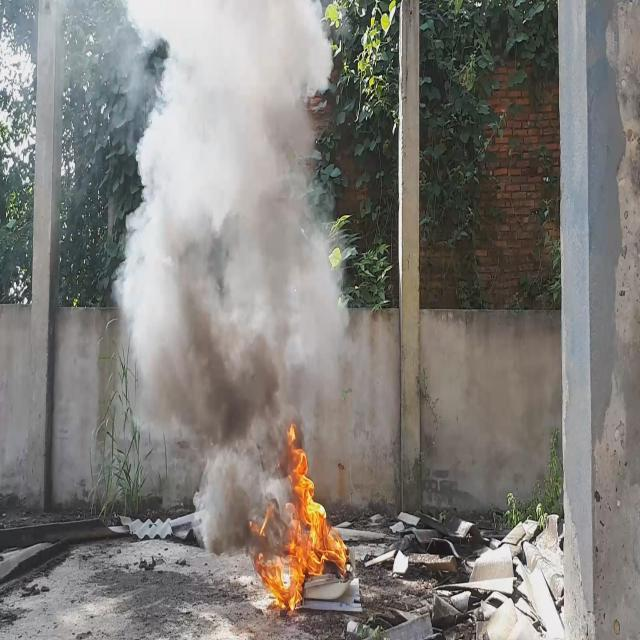Fire: (247, 424, 349, 616)
Smoke: (110, 0, 354, 553)
